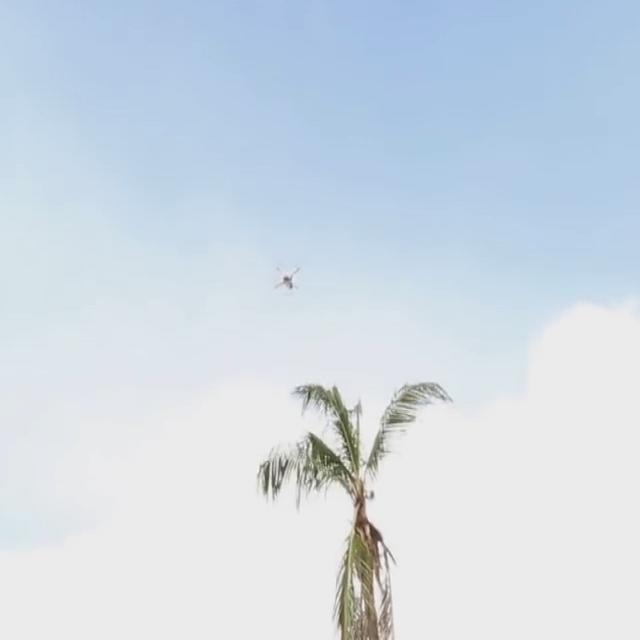drone: (268, 252, 303, 295)
